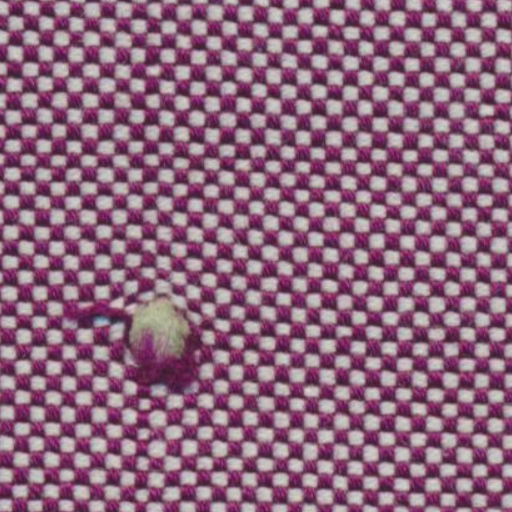MianQiu: (44, 238, 240, 406)
